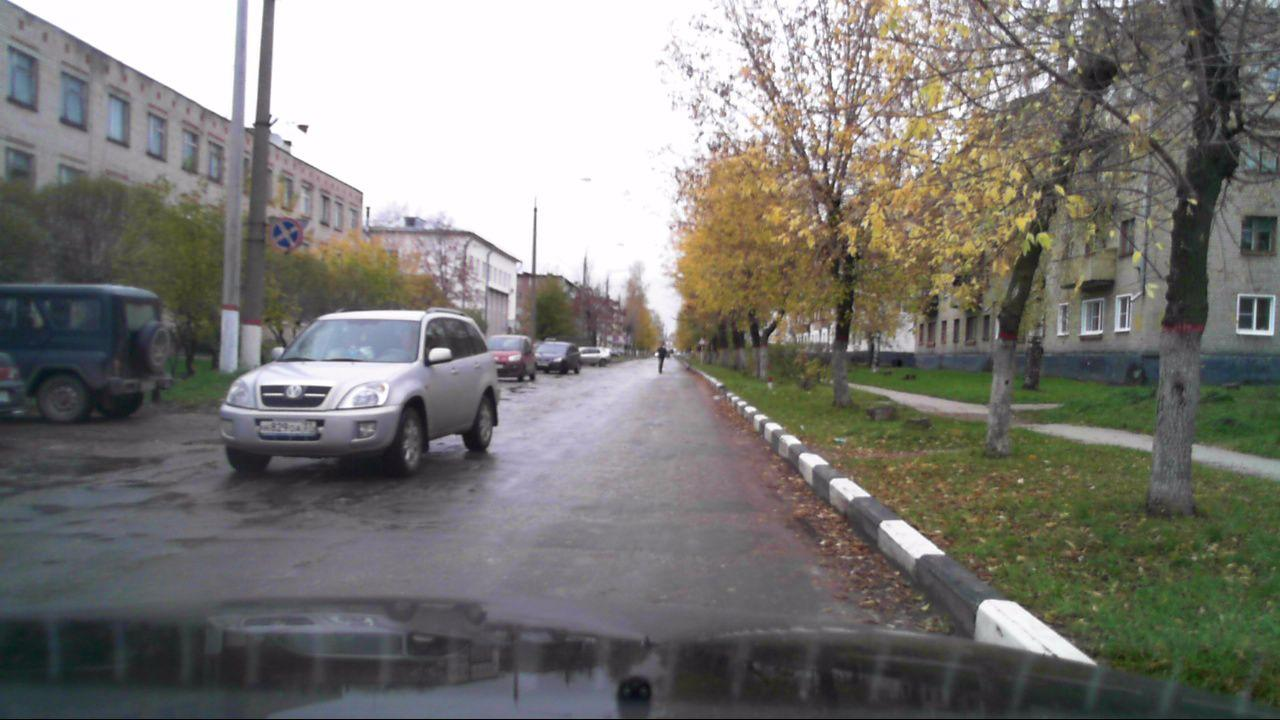3_27: (268, 217, 303, 253)
